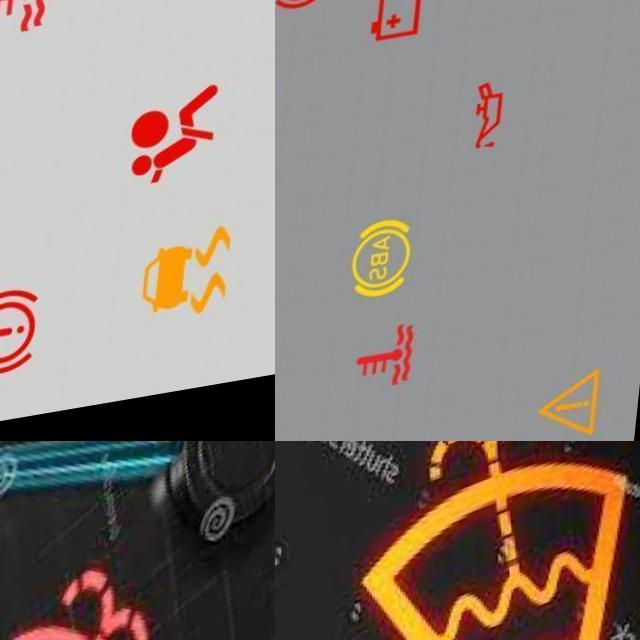Washer Fluid: (354, 441, 640, 640), (5, 573, 165, 640)
